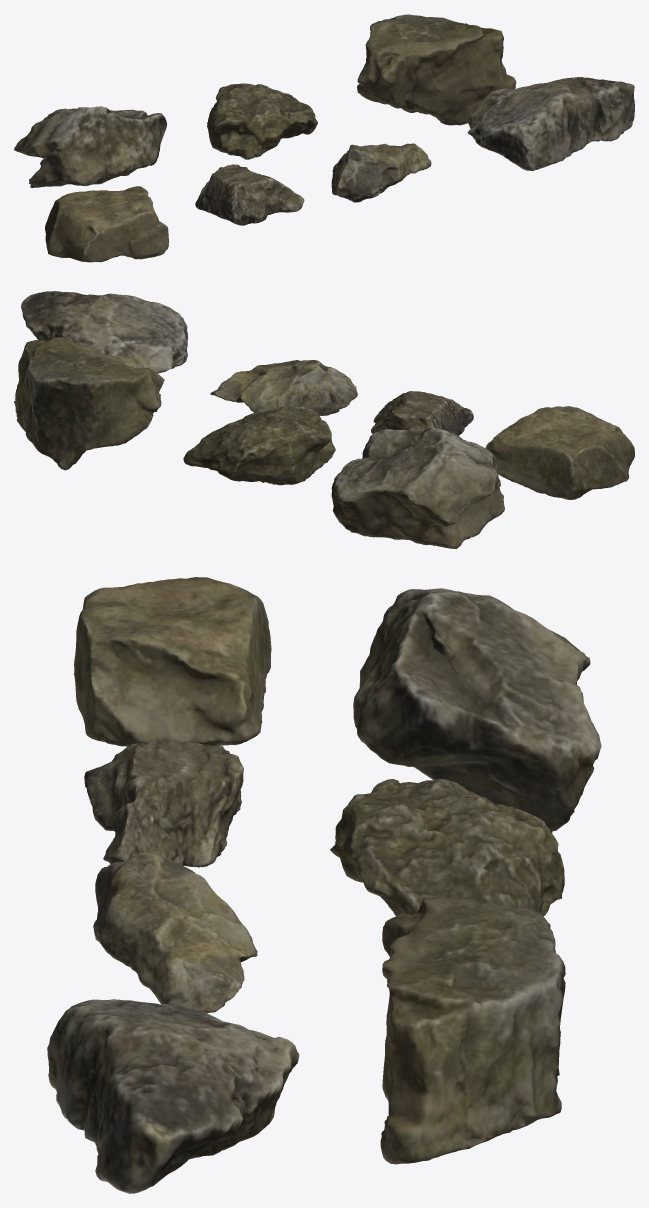
Rendered from rock_moss_set_02.glb.
3 renders of one model, top to bottom at view 1: azimuth 30°, elevation 25°; view 2: azimuth 150°, elevation 25°; view 3: azimuth 270°, elevation 25°, orthographic. The views are drawn at different scales.
Parts seen in each view (by area): view 1: rock_moss_set_02_rock13, rock_moss_set_02_rock10, rock_moss_set_02_rock11, rock_moss_set_02_rock07, rock_moss_set_02_rock12, rock_moss_set_02_rock08, rock_moss_set_02_rock09; view 2: rock_moss_set_02_rock11, rock_moss_set_02_rock13, rock_moss_set_02_rock07, rock_moss_set_02_rock10, rock_moss_set_02_rock12, rock_moss_set_02_rock09, rock_moss_set_02_rock08; view 3: rock_moss_set_02_rock13, rock_moss_set_02_rock11, rock_moss_set_02_rock10, rock_moss_set_02_rock07, rock_moss_set_02_rock12, rock_moss_set_02_rock09, rock_moss_set_02_rock08.
Part boxes in pixels (x1,y1,x2,y2): rock_moss_set_02_rock13: [357, 14, 516, 125]; rock_moss_set_02_rock10: [467, 77, 634, 170]; rock_moss_set_02_rock11: [14, 106, 166, 187]; rock_moss_set_02_rock07: [45, 186, 168, 262]; rock_moss_set_02_rock12: [207, 83, 317, 159]; rock_moss_set_02_rock08: [195, 164, 304, 225]; rock_moss_set_02_rock09: [331, 143, 431, 202]; rock_moss_set_02_rock11: [331, 427, 504, 548]; rock_moss_set_02_rock13: [14, 337, 164, 470]; rock_moss_set_02_rock07: [485, 406, 634, 499]; rock_moss_set_02_rock10: [21, 291, 187, 373]; rock_moss_set_02_rock12: [183, 406, 335, 485]; rock_moss_set_02_rock09: [210, 360, 357, 415]; rock_moss_set_02_rock08: [371, 391, 473, 435]; rock_moss_set_02_rock13: [380, 895, 565, 1164]; rock_moss_set_02_rock11: [353, 588, 601, 833]; rock_moss_set_02_rock10: [47, 999, 299, 1193]; rock_moss_set_02_rock07: [74, 577, 271, 746]; rock_moss_set_02_rock12: [330, 779, 564, 927]; rock_moss_set_02_rock09: [93, 851, 257, 1013]; rock_moss_set_02_rock08: [84, 741, 243, 867].
Size of the model in its own units: 8.28 by 1.37 by 3.41.
Materials: 1 (1 with a texture image).
